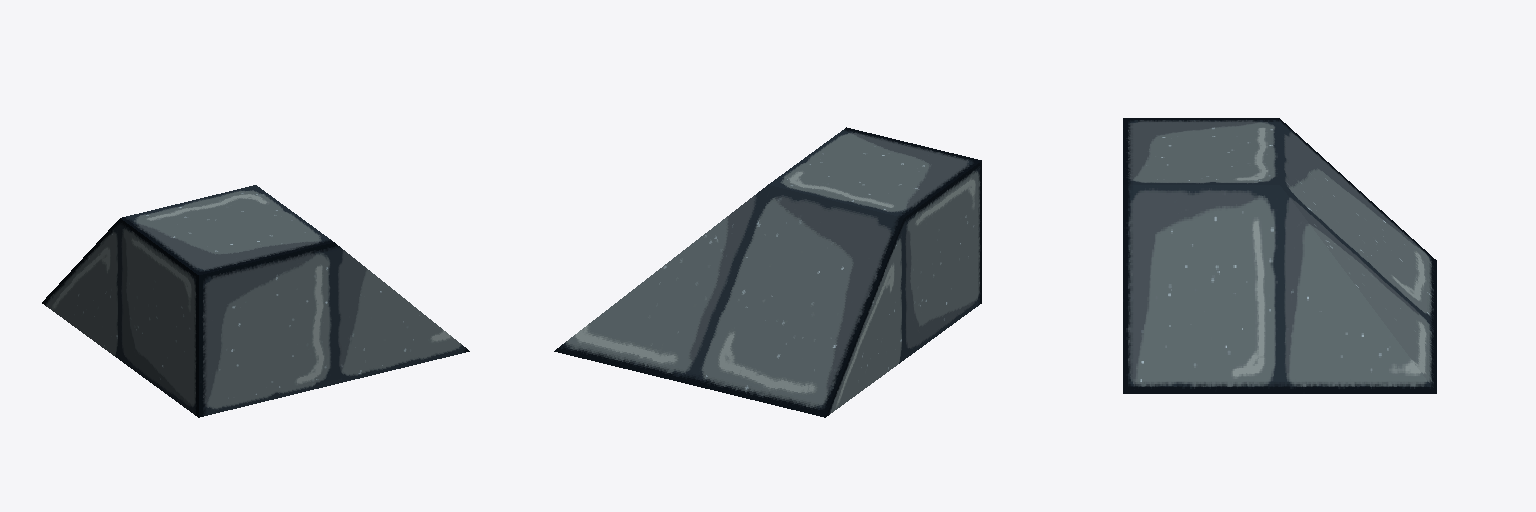
3 renders of one model, left to right at view 1: azimuth 30°, elevation 25°; view 2: azimuth 150°, elevation 25°; view 3: azimuth 270°, elevation 25°, orthographic.
Visible parts, largest first — view 1: 3_stone; view 2: 3_stone; view 3: 3_stone.
Part boxes in pixels (left/top/right/bottom): 3_stone: left=42, top=185, right=469, bottom=417; 3_stone: left=554, top=127, right=981, bottom=417; 3_stone: left=1123, top=118, right=1436, bottom=393.
Bounding box in the file's own units: 1 × 0.5 × 1.
Materials: 1 (1 with a texture image).